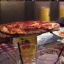pizza: (1, 14, 61, 34)
